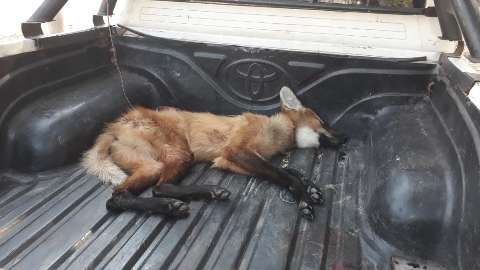LoboGuara: (73, 82, 358, 225)
